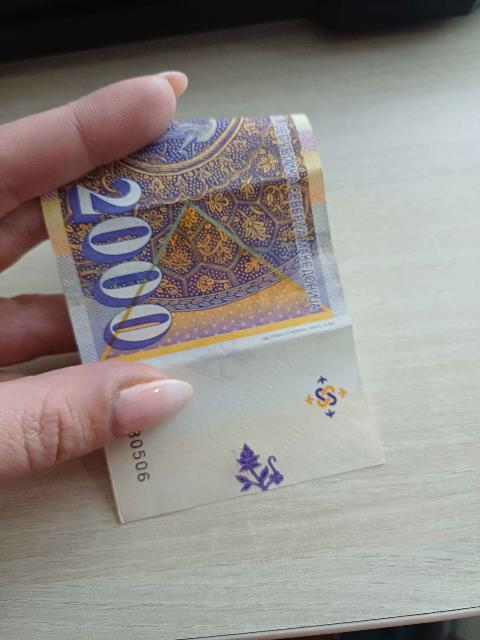2000_note: (43, 116, 382, 520)
